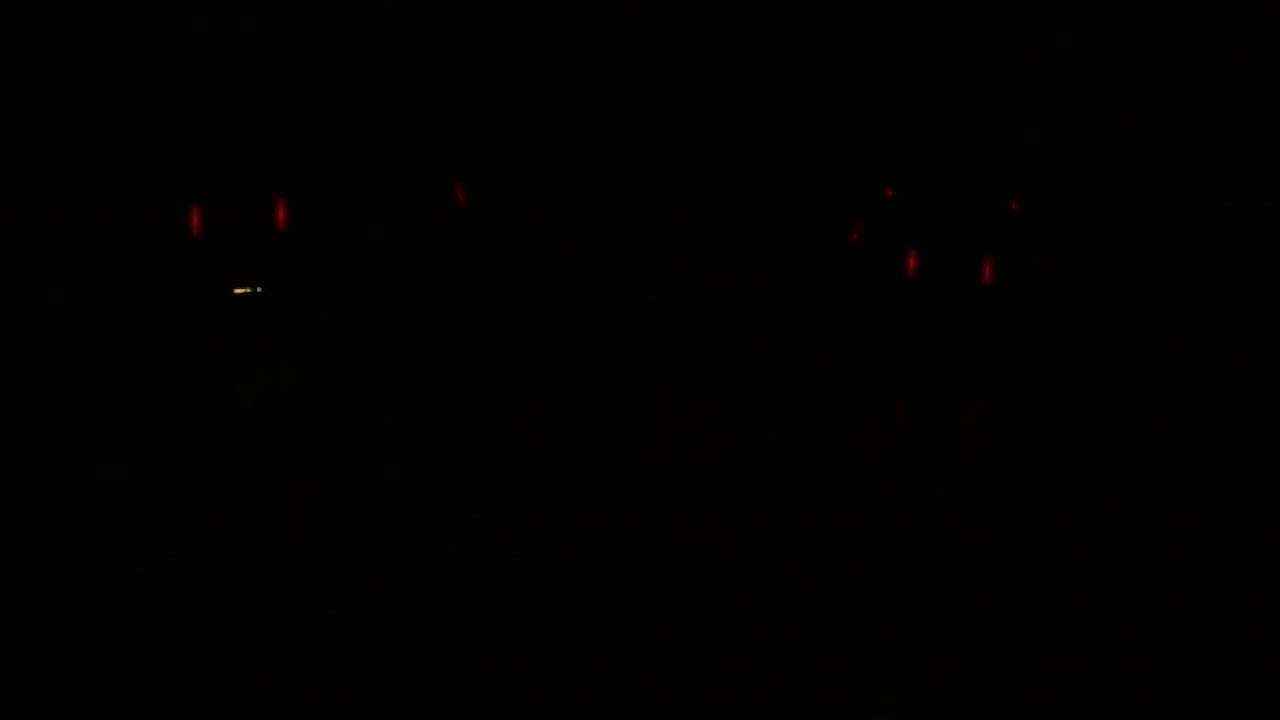pair1: (177, 188, 301, 250)
pair2: (894, 240, 1004, 302)
